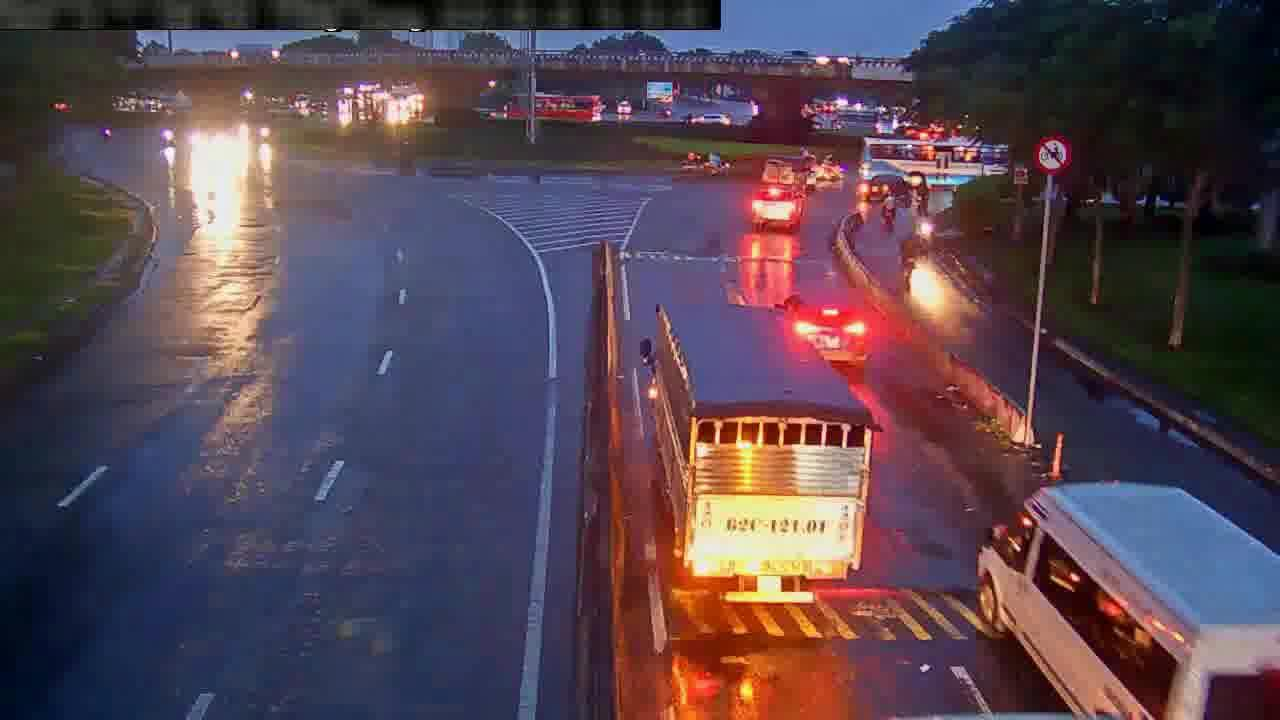14: (977, 478, 1280, 720), (749, 184, 808, 232)
8: (638, 302, 865, 605)
container: (779, 291, 874, 368)
